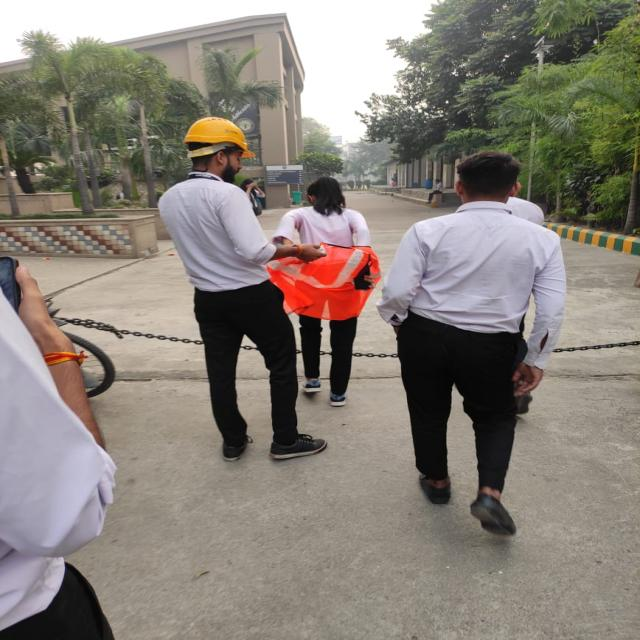no jacket: (158, 116, 322, 460)
unsafe: (399, 155, 571, 535), (274, 173, 379, 406)
